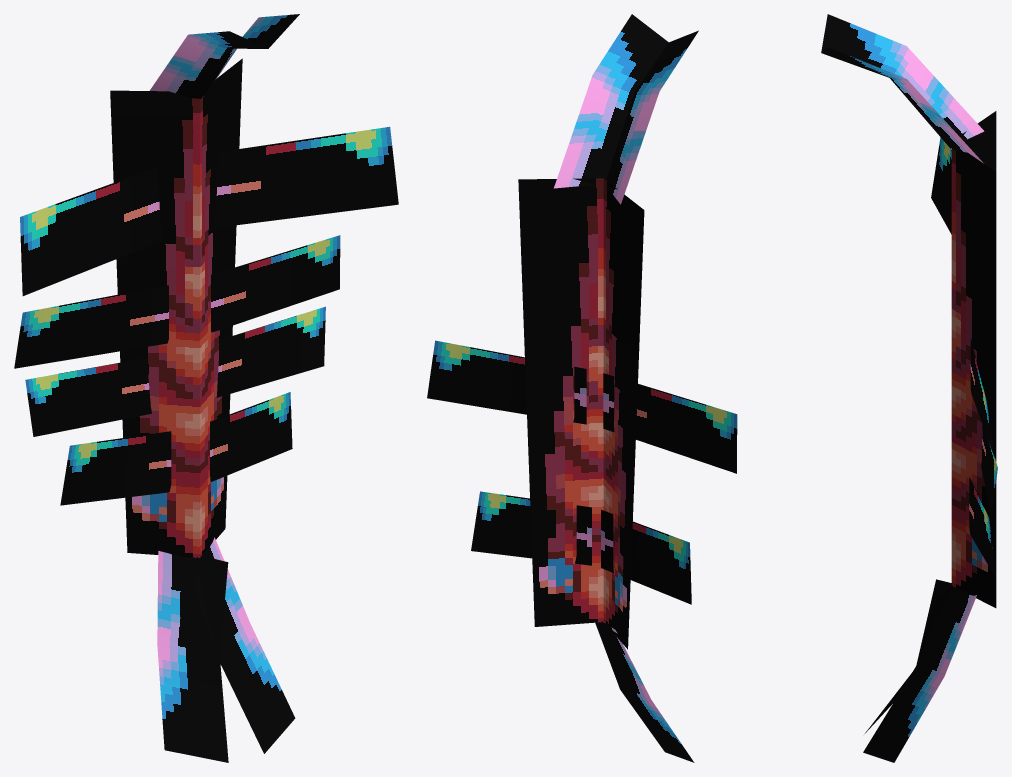
The picture shows the model from 3 angles, left to right: view 1: azimuth 30°, elevation 25°; view 2: azimuth 150°, elevation 25°; view 3: azimuth 270°, elevation 25°; orthographic projection. The views are drawn at different scales.
Visible parts, largest first — view 1: 5043musi53_e; view 2: 5043musi53_e; view 3: 5043musi53_e.
Boxes of the visible parts, x1,y1,x2,y2 form: 5043musi53_e: (14, 14, 398, 762); 5043musi53_e: (427, 14, 737, 762); 5043musi53_e: (821, 14, 997, 762).
Bounding box in the file's own units: 0.3354 × 0.6387 × 0.1433.
Materials: 1 (1 with a texture image).
